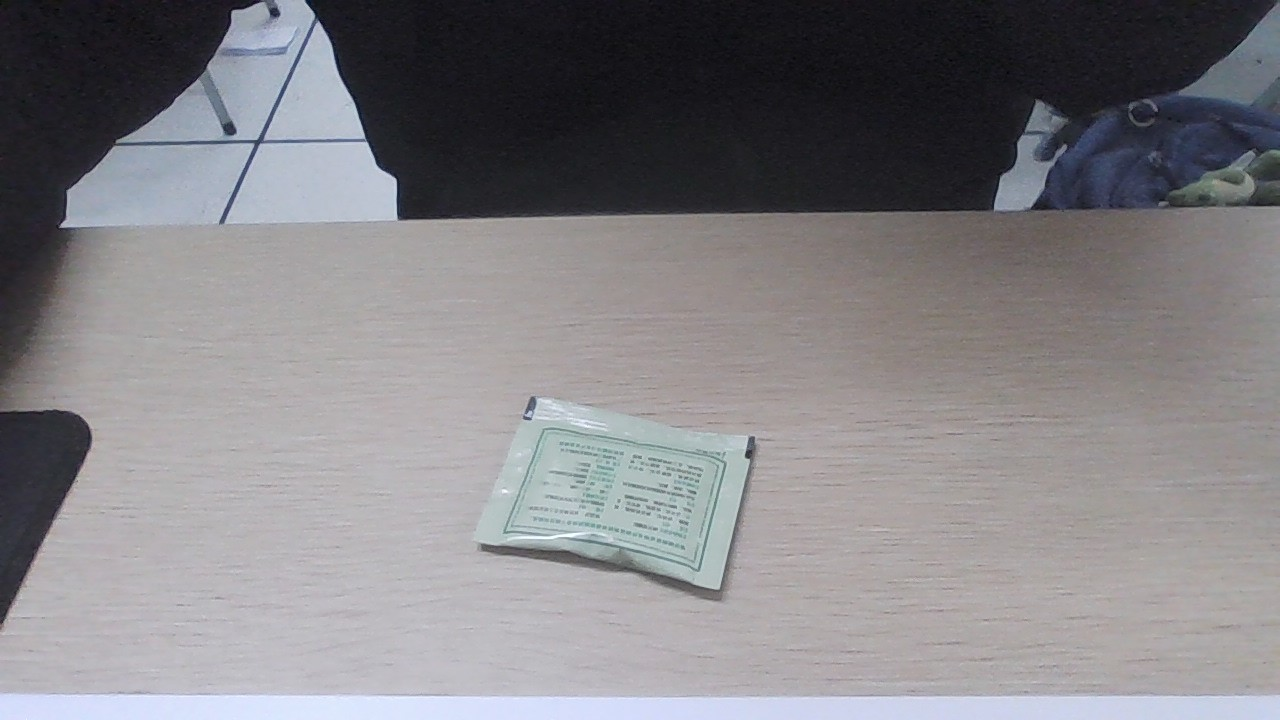YH-green medicine: (488, 402, 740, 575)
